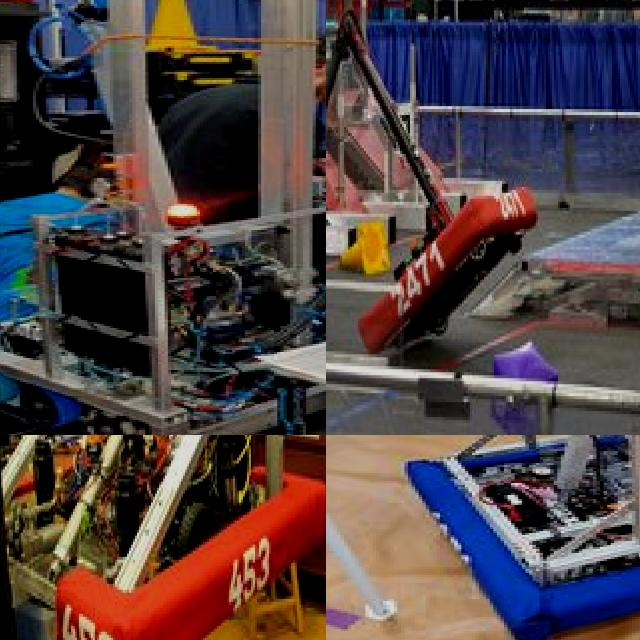FRC-Robots: (0, 0, 326, 435), (326, 0, 640, 435), (0, 435, 326, 640), (377, 435, 640, 617)
